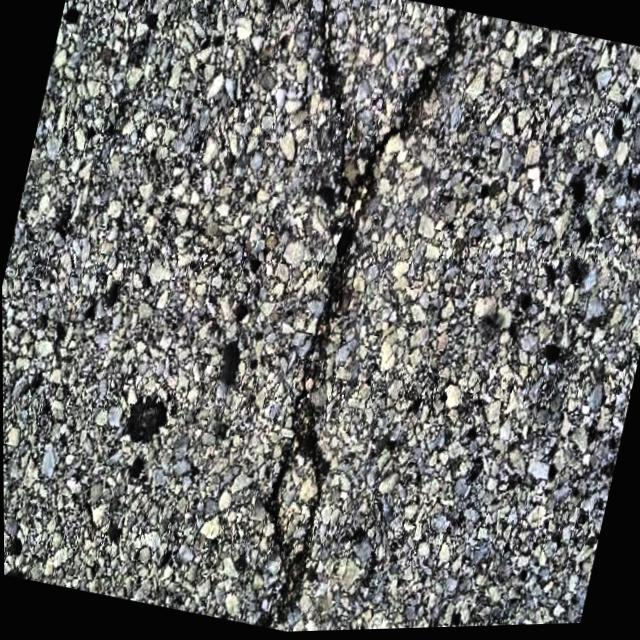cracks: (260, 0, 464, 631)
